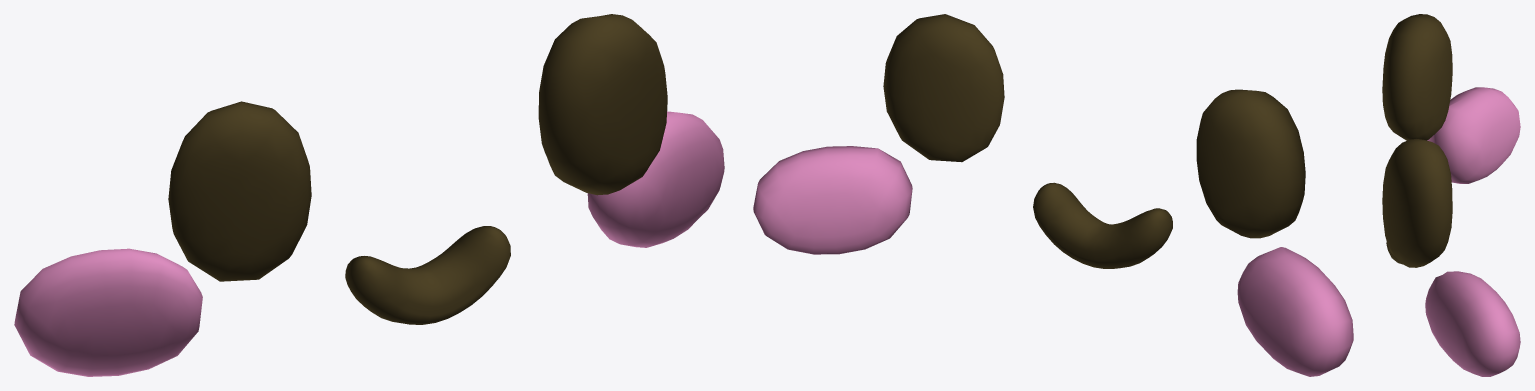
Rendered from FACE_elements.fbx.
3 renders of one model, left to right at view 1: azimuth 30°, elevation 25°; view 2: azimuth 150°, elevation 25°; view 3: azimuth 270°, elevation 25°, orthographic. The views are drawn at different scales.
Parts seen in each view (by area): view 1: Face1; view 2: Face1; view 3: Face1.
Boxes of the visible parts, <box> form: Face1: <box>14,14,724,376</box>; Face1: <box>753,14,1353,376</box>; Face1: <box>1382,14,1520,376</box>.
Size of the model in its own units: 2.91 by 1.08 by 0.7049.
